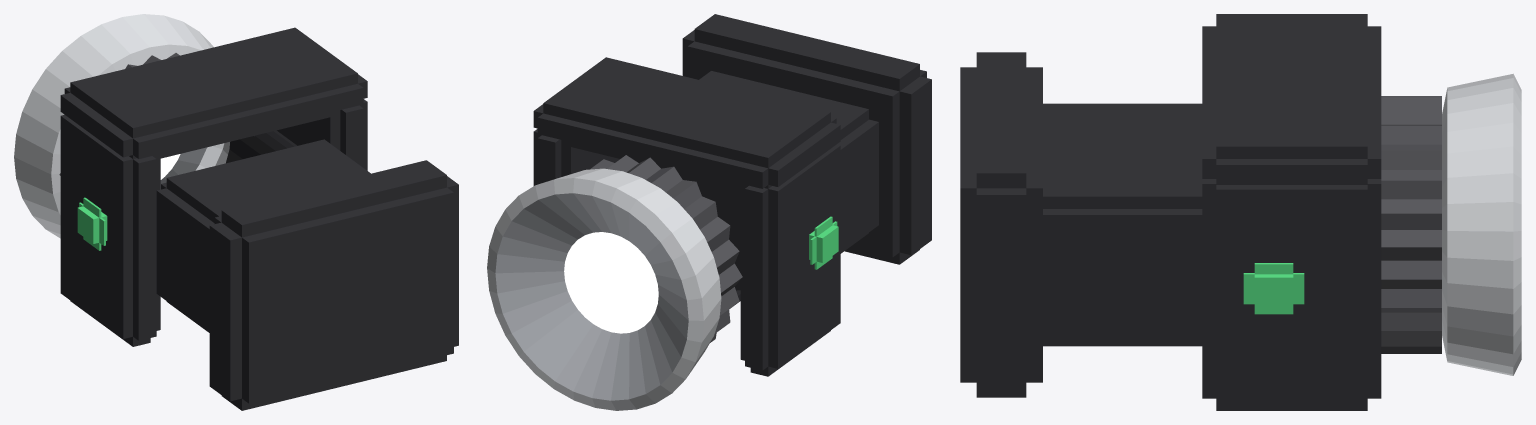
The model's file is headlamp_mounted.glb.
The picture shows the model from 3 angles, left to right: view 1: azimuth 30°, elevation 25°; view 2: azimuth 150°, elevation 25°; view 3: azimuth 270°, elevation 25°; orthographic projection. The views are drawn at different scales.
Parts seen in each view (by area): view 1: head; view 2: head; view 3: head.
Boxes of the visible parts, box(x1,y1,x2,y2) form: head: box(14, 14, 458, 410); head: box(487, 14, 931, 410); head: box(960, 14, 1521, 410).
Bounding box in the file's own units: 0.138 × 0.113 × 0.204.
